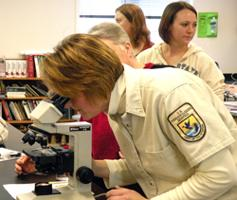person: (40, 35, 237, 200)
